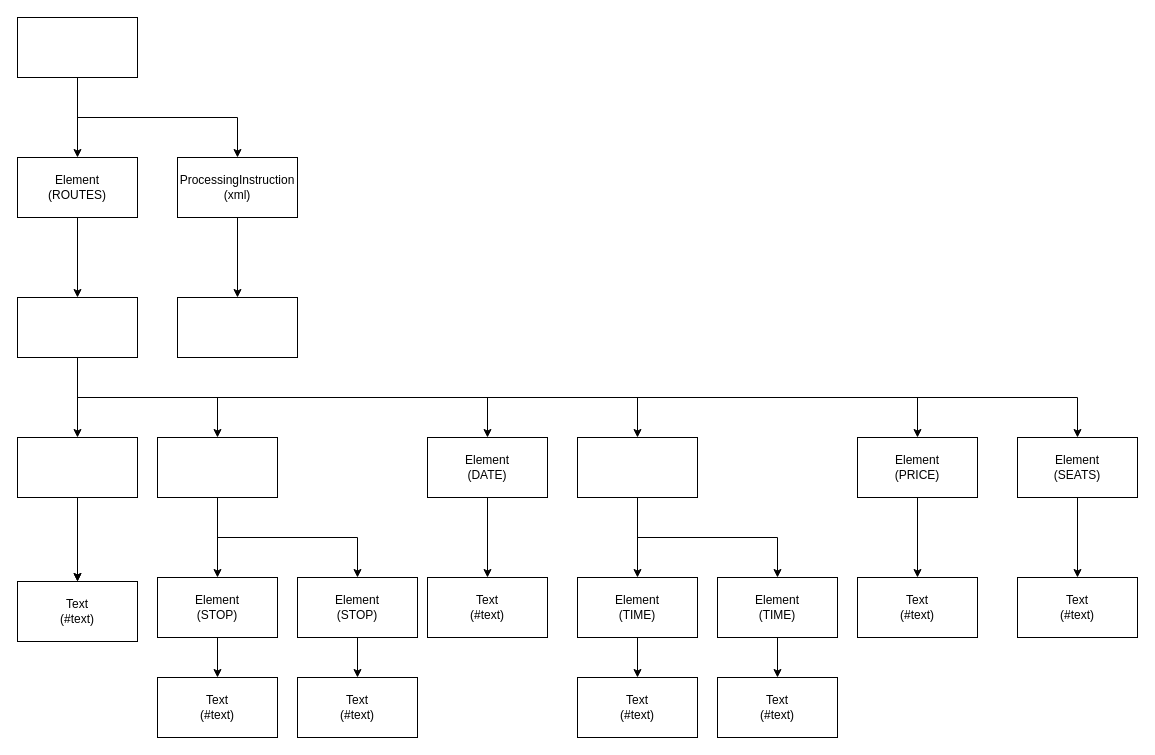
This 1155x755 diagram has some shape labels left out. Each missing label, with the centre of its shape:
"Attribute (version)" belongs at point 237,327.
"Document (#document)" belongs at point 77,47.
"Element (DESTINATION)" belongs at point 77,467.
"Element (ROUTE)" belongs at point 77,327.
"Element (STOPS)" belongs at point 217,467.
"Element (TIMES)" belongs at point 637,467.
